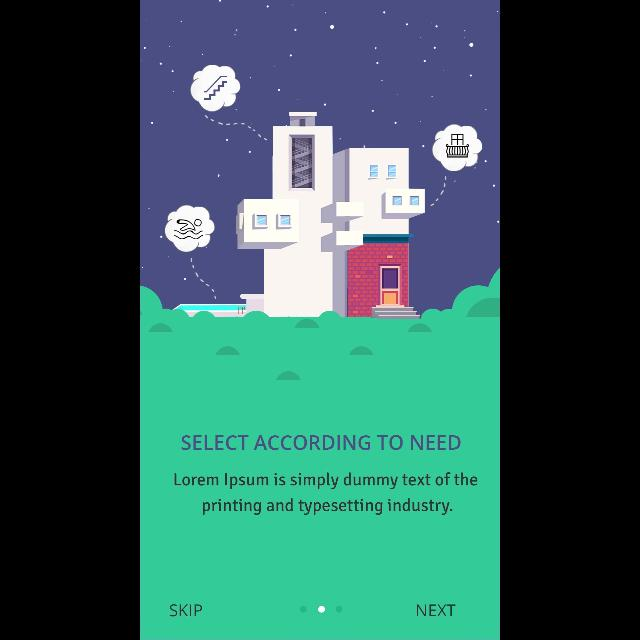image: (140, 1, 500, 381)
pageindicator: (301, 605, 344, 613)
text: (175, 472, 478, 516), (182, 436, 462, 450), (418, 604, 457, 616), (170, 604, 202, 616)
